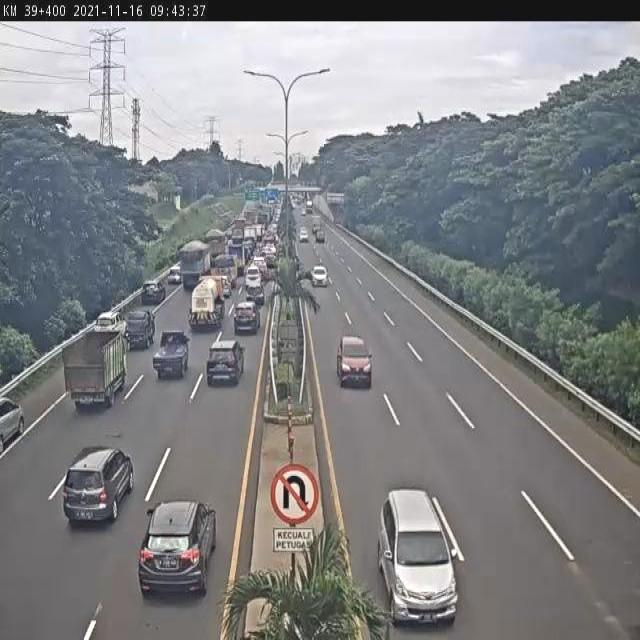Car: (378, 488, 458, 625), (138, 498, 218, 601), (61, 446, 133, 524), (336, 336, 373, 390), (206, 338, 246, 387), (153, 329, 191, 378), (0, 397, 25, 455), (123, 309, 154, 349), (233, 300, 260, 335), (94, 310, 127, 338), (140, 279, 166, 305), (311, 266, 328, 287), (167, 266, 182, 284), (222, 277, 231, 298), (299, 228, 309, 242), (316, 230, 325, 242), (312, 223, 320, 234), (301, 208, 306, 216)
Truck: (64, 330, 128, 411), (188, 275, 224, 325), (179, 240, 211, 291)
